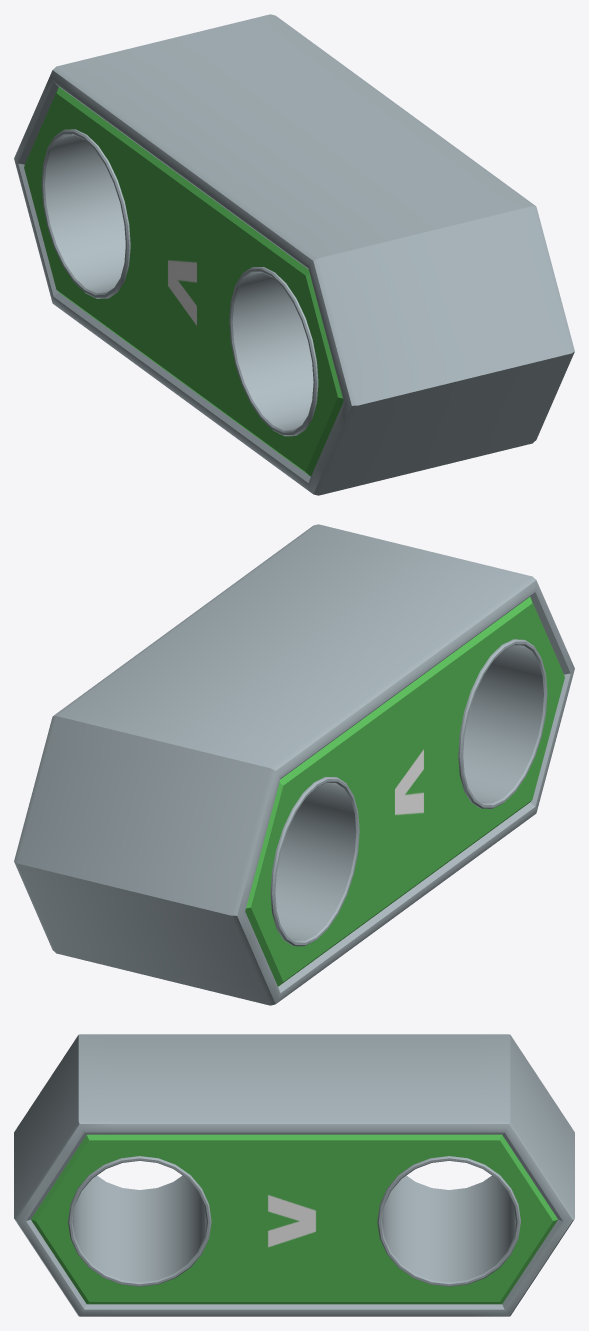
Rendered from Conditional_Greater.fbx.
The picture shows the model from 3 angles, top to bottom: view 1: azimuth 30°, elevation 25°; view 2: azimuth 150°, elevation 25°; view 3: azimuth 270°, elevation 25°; orthographic projection. The views are drawn at different scales.
Parts seen in each view (by area): view 1: Conditional_Greater; view 2: Conditional_Greater; view 3: Conditional_Greater.
Part boxes in pixels (x1,y1,x2,y2): Conditional_Greater: [14, 14, 574, 495]; Conditional_Greater: [14, 524, 574, 1005]; Conditional_Greater: [14, 1034, 574, 1316].
Bounding box in the file's own units: 103 × 100 × 260.
Materials: 1 (1 with a texture image).
